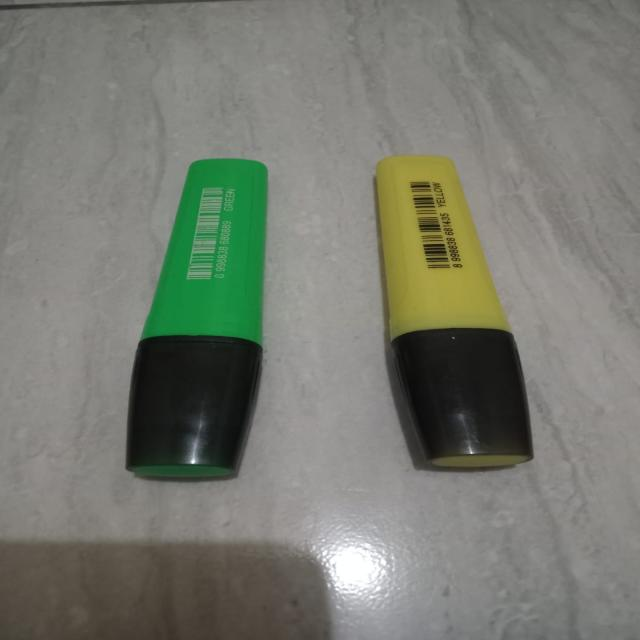highlighter: (104, 146, 299, 504), (352, 144, 552, 492)
